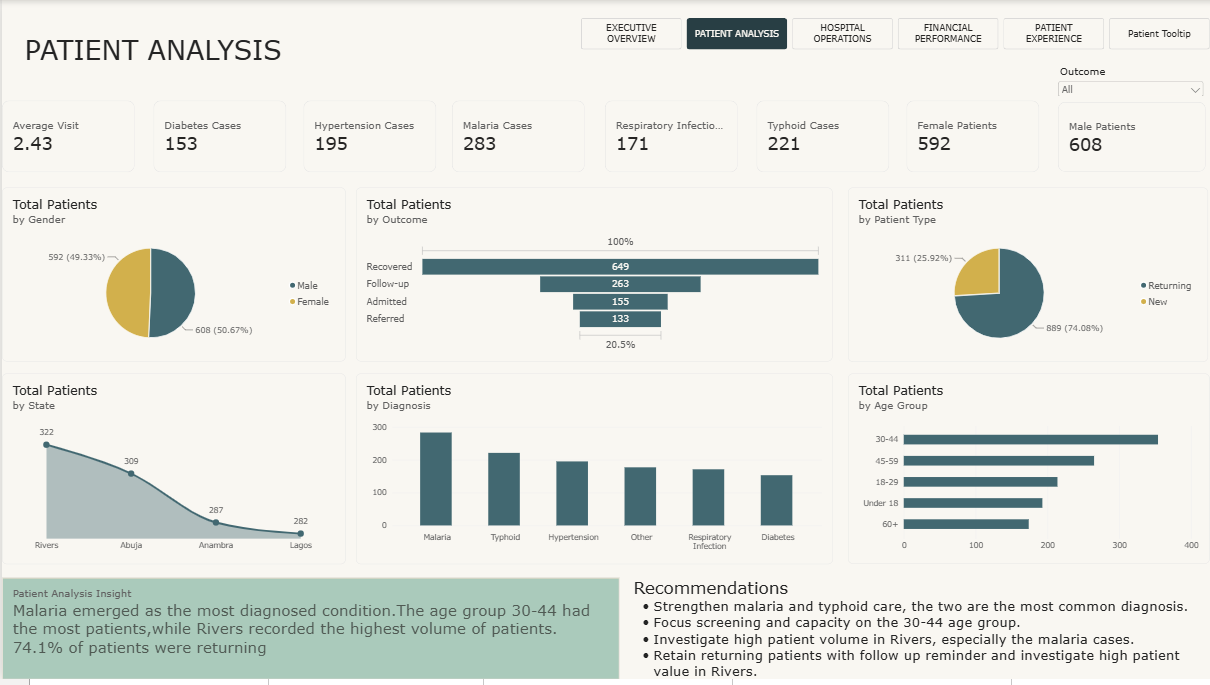

Layout of this report page (visuals, bound fields, positions):
{"tool":"powerbi","page":{"name":"PATIENT ANALYSIS","canvas":[1920,1080],"ordinal":0},"visuals":[{"type":"pageNavigator","box":[921,28.6,1000,50],"z":0},{"type":"textbox","box":[36,52,420,52],"z":1000},{"type":"pieChart","fields":{"Category":["Patient_Visits.Gender"],"Y":["Patient_Visits.Total Patients"]},"box":[0,298.7,546.5,276.9],"z":2000},{"type":"clusteredColumnChart","fields":{"Category":["Patient_Visits.Diagnosis"],"Y":["Patient_Visits.Total Patients"]},"box":[563.1,594.1,758.7,303],"z":3000},{"type":"cardVisual","fields":{"Data":["Patient_Visits.Average Visit"]},"box":[0,160.3,211.3,114.2],"z":4000},{"type":"cardVisual","fields":{"Data":["Patient_Visits.Diabetes Cases"]},"box":[240.5,160.3,211.3,114.2],"z":5000},{"type":"cardVisual","fields":{"Data":["Patient_Visits.Hypertension Cases"]},"box":[478.5,160.3,211.3,114.2],"z":6000},{"type":"cardVisual","fields":{"Data":["Patient_Visits.Malaria Cases"]},"box":[716.5,160.3,211.3,114.2],"z":7000},{"type":"cardVisual","fields":{"Data":["Patient_Visits.Respiratory Infection Cases"]},"box":[959.4,160.3,211.3,114.2],"z":8000},{"type":"cardVisual","fields":{"Data":["Patient_Visits.Typhoid Cases"]},"box":[1199.8,160.3,211.3,114.2],"z":9000},{"type":"cardVisual","fields":{"Data":["Patient_Visits.Female Patients"]},"box":[1437.9,160.3,211.3,114.2],"z":10000},{"type":"cardVisual","fields":{"Data":["Patient_Visits.Male Patients"]},"box":[1680.8,162.7,235.6,111.7],"z":11000},{"type":"slicer","fields":{"Values":["Patient_Visits.Outcome"]},"box":[1675.9,102,241,50.1],"z":12000},{"type":"areaChart","fields":{"Category":["Patient_Visits.State"],"Y":["Patient_Visits.Total Patients"]},"box":[0,594.1,546.4,303],"z":13000},{"type":"funnel","fields":{"Category":["Patient_Visits.Outcome"],"Y":["Patient_Visits.Total Patients"]},"box":[563.5,298.7,757.8,276.9],"z":14000},{"type":"pieChart","fields":{"Category":["Patient_Visits.Patient Type"],"Y":["Patient_Visits.Total Patients"]},"box":[1345,297.5,572.5,277.5],"z":15000},{"type":"cardVisual","fields":{"Data":["Date_Table.Patient Analysis Insight"]},"box":[0,917.5,982.5,162.5],"z":16000},{"type":"textbox","box":[1005,917.5,912.5,162.5],"z":17000},{"type":"barChart","fields":{"Category":["Patient_Visits.Age Group"],"Y":["Patient_Visits.Total Patients"]},"box":[1345,595,575,302.5],"z":18000}]}

Visuals, with their boxes in screenshot pixels (x1, y1, x2, y2), scaled from the page's 1920x1080 canvas onto the 1210x685 screenshot:
pageNavigator: left=580, top=18, right=1209, bottom=50
textbox: left=23, top=33, right=287, bottom=66
pieChart - Patient_Visits.Gender x Patient_Visits.Total Patients: left=0, top=189, right=344, bottom=365
clusteredColumnChart - Patient_Visits.Diagnosis x Patient_Visits.Total Patients: left=355, top=377, right=833, bottom=569
cardVisual - Patient_Visits.Average Visit: left=0, top=102, right=133, bottom=174
cardVisual - Patient_Visits.Diabetes Cases: left=152, top=102, right=285, bottom=174
cardVisual - Patient_Visits.Hypertension Cases: left=302, top=102, right=435, bottom=174
cardVisual - Patient_Visits.Malaria Cases: left=452, top=102, right=585, bottom=174
cardVisual - Patient_Visits.Respiratory Infection Cases: left=605, top=102, right=738, bottom=174
cardVisual - Patient_Visits.Typhoid Cases: left=756, top=102, right=889, bottom=174
cardVisual - Patient_Visits.Female Patients: left=906, top=102, right=1039, bottom=174
cardVisual - Patient_Visits.Male Patients: left=1059, top=103, right=1208, bottom=174
slicer - Patient_Visits.Outcome: left=1056, top=65, right=1208, bottom=96
areaChart - Patient_Visits.State x Patient_Visits.Total Patients: left=0, top=377, right=344, bottom=569
funnel - Patient_Visits.Outcome x Patient_Visits.Total Patients: left=355, top=189, right=833, bottom=365
pieChart - Patient_Visits.Patient Type x Patient_Visits.Total Patients: left=848, top=189, right=1208, bottom=365
cardVisual - Date_Table.Patient Analysis Insight: left=0, top=582, right=619, bottom=684
textbox: left=633, top=582, right=1208, bottom=684
barChart - Patient_Visits.Age Group x Patient_Visits.Total Patients: left=848, top=377, right=1209, bottom=569
